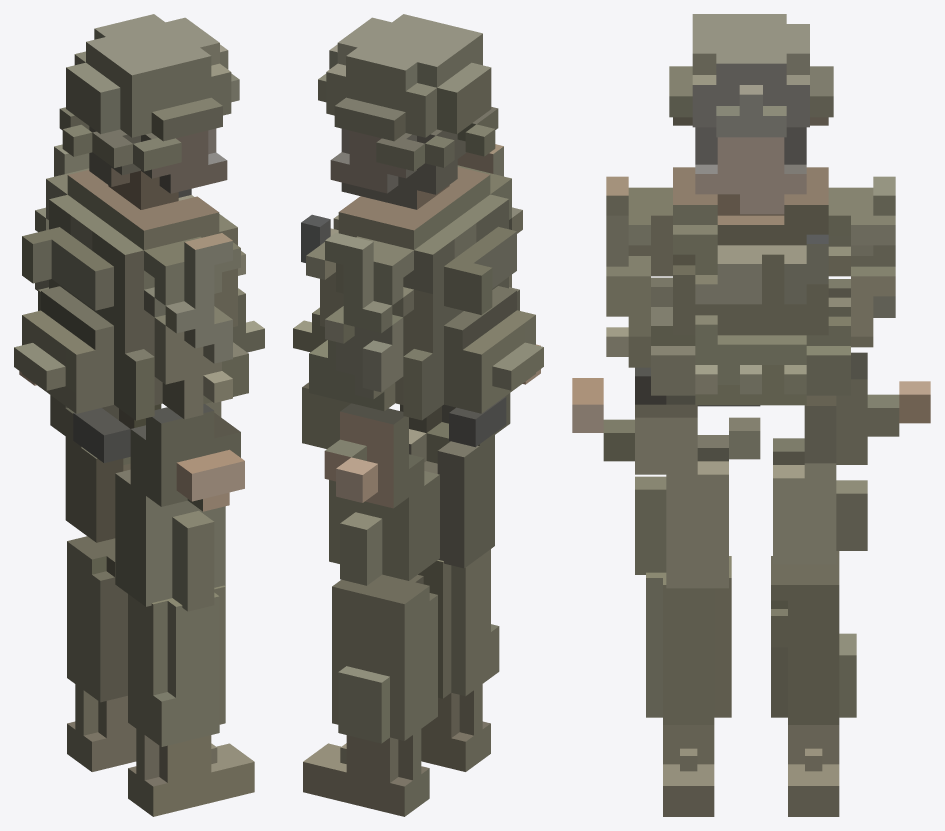
Rendered from soldier_infantry.glb.
The picture shows the model from 3 angles, left to right: view 1: azimuth 30°, elevation 25°; view 2: azimuth 150°, elevation 25°; view 3: azimuth 270°, elevation 25°; orthographic projection. The views are drawn at different scales.
Visible parts, largest first — view 1: torso, legL, shinL, head, shinR, legR; view 2: torso, shinR, legR, head, shinL, legL; view 3: torso, legL, legR, shinR, shinL, head.
Boxes of the visible parts, x1,y1,x2,y2 form: torso: (14,107,264,420); legL: (73,401,244,611); shinL: (128,585,254,816); head: (66,14,239,141); shinR: (67,536,136,771); legR: (19,371,161,542); torso: (293,107,543,420); shinR: (303,574,437,816); legR: (302,382,439,585); head: (318,14,491,141); shinL: (418,549,499,771); legL: (400,344,540,568); torso: (606,117,895,405); legL: (572,367,760,588); legR: (773,352,930,564); shinR: (771,551,856,816); shinL: (646,556,731,816); head: (669,14,833,137).
Bounding box in the file's own units: 0.5291 × 1.79 × 0.7756.
